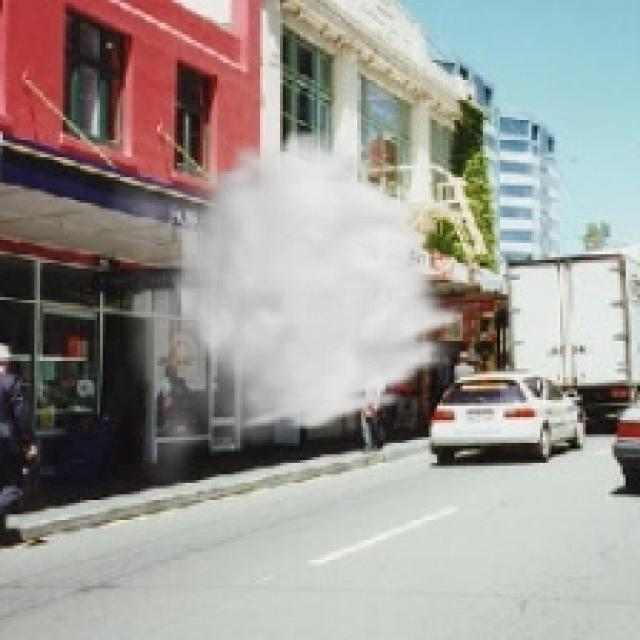smoke: (100, 126, 471, 497)
